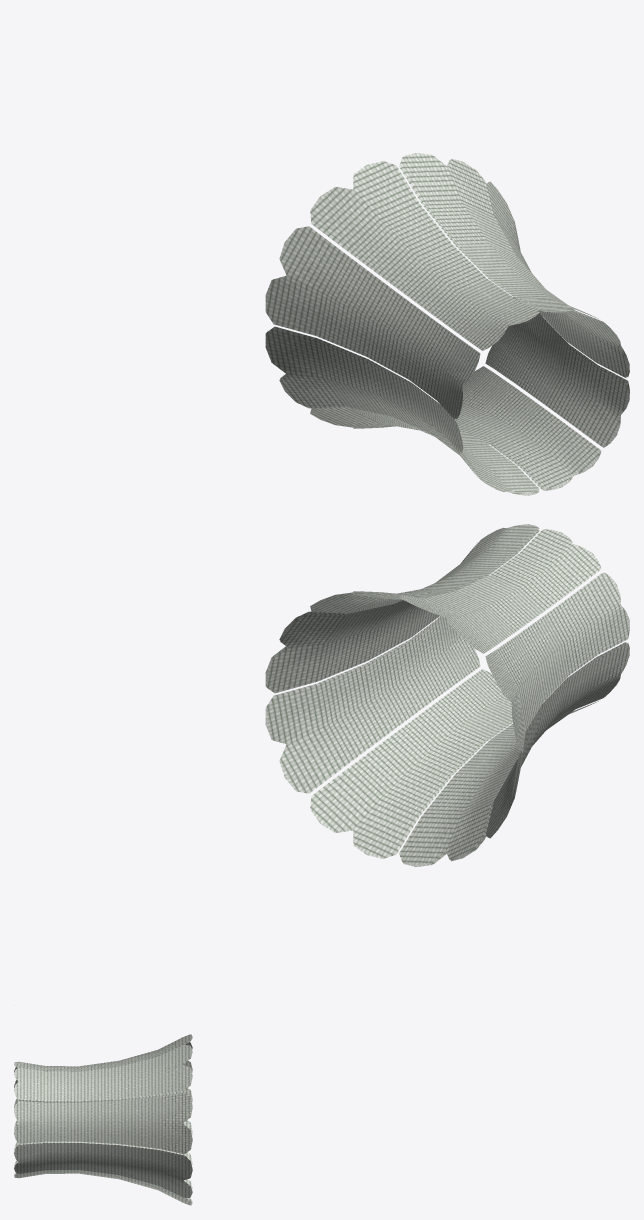
File: MeshFloorLamp_23_0_GeomSubset_2.obj
3 views of the same model, one above another, from view 1: azimuth 30°, elevation 25°; view 2: azimuth 150°, elevation 25°; view 3: azimuth 270°, elevation 25° (orthographic). The views are drawn at different scales.
Visible parts, largest first — view 1: MeshFloorLamp_23_0_GeomSubset_2; view 2: MeshFloorLamp_23_0_GeomSubset_2; view 3: MeshFloorLamp_23_0_GeomSubset_2.
Part boxes in pixels (<box>): MeshFloorLamp_23_0_GeomSubset_2: <box>265,153,629,495</box>; MeshFloorLamp_23_0_GeomSubset_2: <box>265,524,629,866</box>; MeshFloorLamp_23_0_GeomSubset_2: <box>14,1034,192,1205</box>.
Size of the model in its own units: 0.5108 by 0.5108 by 1.84.
